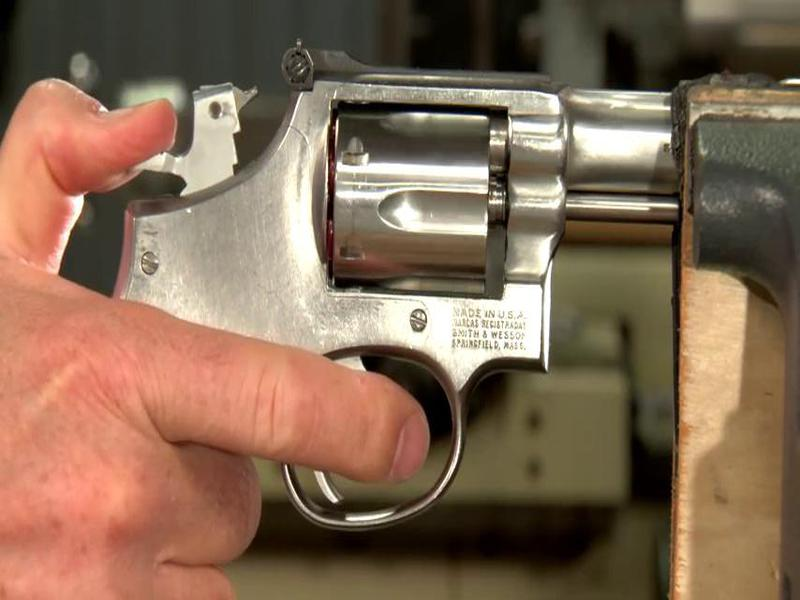Revolver: (109, 36, 687, 539)
